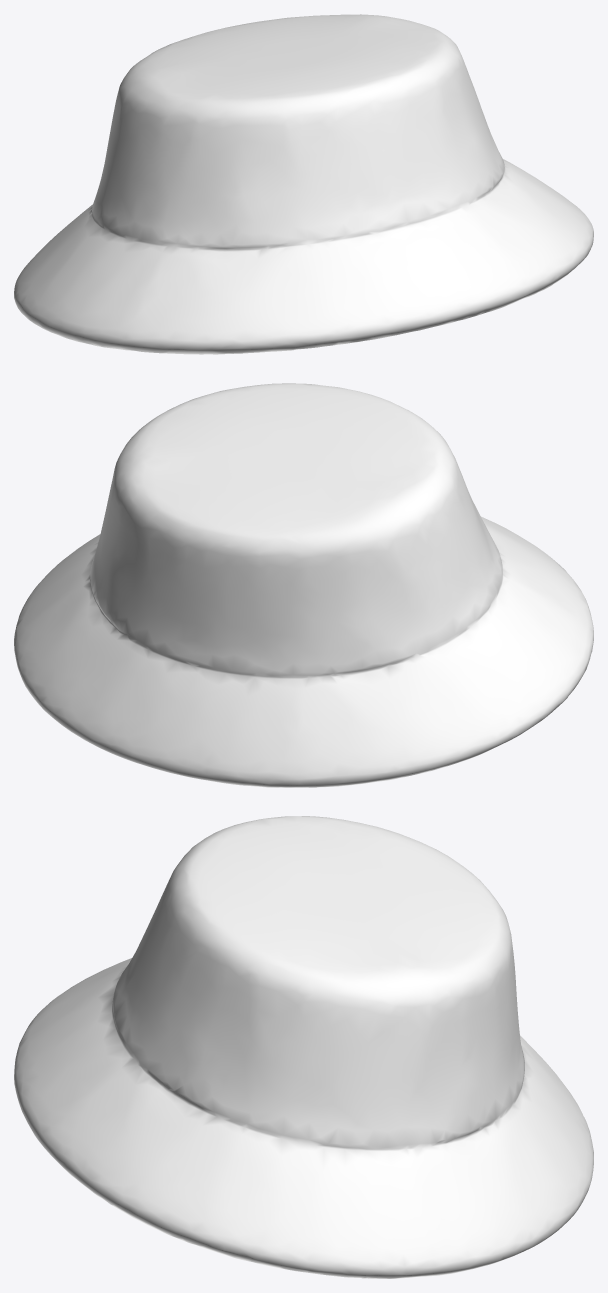
Rendered from Fuzzy-Bucket-Snow.glb.
The picture shows the model from 3 angles, top to bottom: view 1: azimuth 30°, elevation 25°; view 2: azimuth 150°, elevation 25°; view 3: azimuth 270°, elevation 25°; orthographic projection. The views are drawn at different scales.
Parts seen in each view (by area): view 1: Fuzzy-Bucket-Snow; view 2: Fuzzy-Bucket-Snow; view 3: Fuzzy-Bucket-Snow.
Boxes of the visible parts, <box> form: Fuzzy-Bucket-Snow: <box>14,14,593,354</box>; Fuzzy-Bucket-Snow: <box>14,383,593,787</box>; Fuzzy-Bucket-Snow: <box>14,816,593,1278</box>.
Bounding box in the file's own units: 0.7047 × 0.336 × 0.5977.
Materials: 1 (1 with a texture image).
